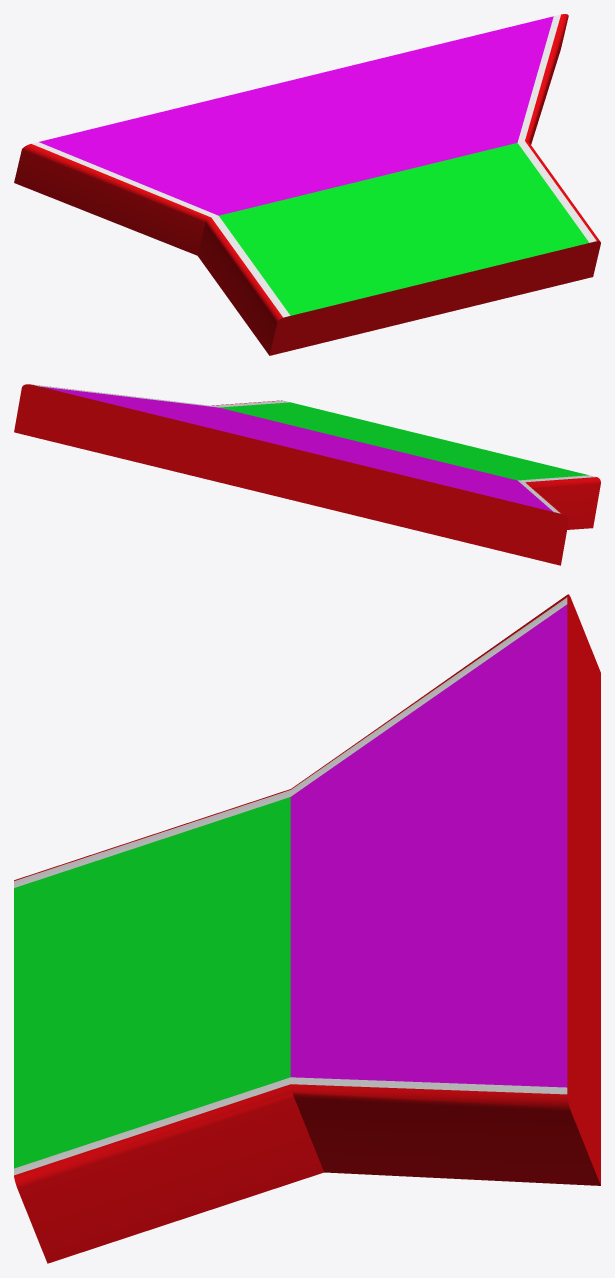
Rendered from OrtaYoldan_GenisYola_Gecis_Yukari.fbx.
3 renders of one model, top to bottom at view 1: azimuth 30°, elevation 25°; view 2: azimuth 150°, elevation 25°; view 3: azimuth 270°, elevation 25°, orthographic. The views are drawn at different scales.
Visible parts, largest first — view 1: OrtaYoldan_GenisYola_Gecis_Yukari; view 2: OrtaYoldan_GenisYola_Gecis_Yukari; view 3: OrtaYoldan_GenisYola_Gecis_Yukari.
Boxes of the visible parts, bbox=[...] form: OrtaYoldan_GenisYola_Gecis_Yukari: bbox=[14, 14, 600, 355]; OrtaYoldan_GenisYola_Gecis_Yukari: bbox=[14, 384, 600, 565]; OrtaYoldan_GenisYola_Gecis_Yukari: bbox=[14, 594, 600, 1263].
Size of the model in its own units: 1856 by 449 by 897.
